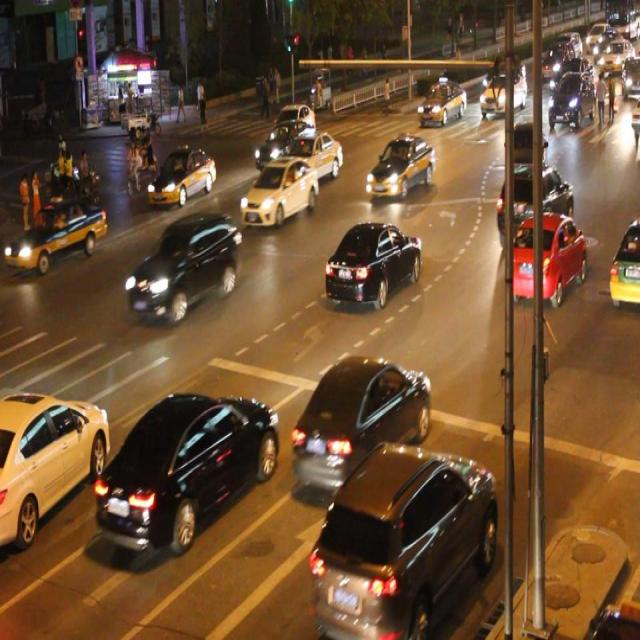car: (312, 441, 493, 640), (98, 392, 276, 550), (289, 353, 430, 483), (1, 388, 109, 539), (125, 211, 238, 319), (326, 222, 420, 300), (8, 197, 106, 270), (506, 213, 585, 300), (495, 168, 572, 241), (240, 156, 318, 223), (365, 134, 434, 198), (147, 147, 216, 205), (274, 130, 341, 182), (254, 118, 315, 168), (607, 215, 640, 302), (508, 122, 544, 180), (270, 102, 315, 147)
